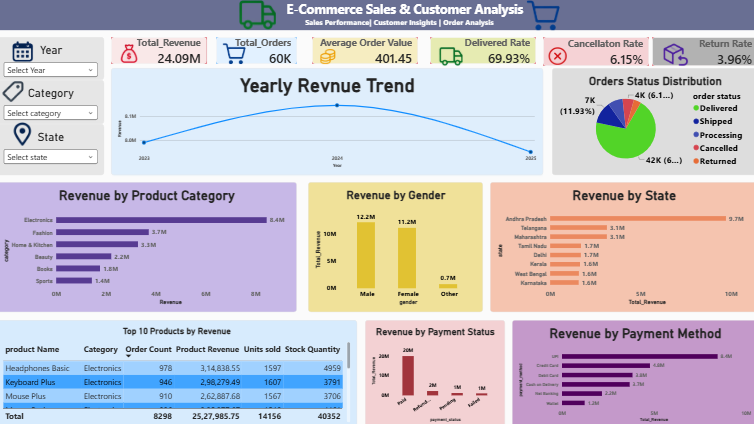

This screenshot's page, from the dashboard's own definition file:
{"tool":"powerbi","page":{"name":"Page 1","canvas":[1920,1080],"ordinal":0},"visuals":[{"type":"cardVisual","fields":{"Data":["ecommerce_analysis orders.Total_Revenue"]},"box":[289.8,93.2,241.9,68],"z":0},{"type":"cardVisual","fields":{"Data":["ecommerce_analysis orders.Total_Orders"]},"box":[554.3,93.2,204.1,68],"z":1000},{"type":"cardVisual","fields":{"Data":["ecommerce_analysis orders.Average Order Value"]},"box":[796.2,93.2,267.1,68],"z":2000},{"type":"lineChart","title":"Yearly Revnue Trend","fields":{"Category":["ecommerce_analysis orders.order_date.Variation.Date Hierarchy.Year","ecommerce_analysis orders.order_date.Variation.Date Hierarchy.Month"],"Y":["ecommerce_analysis orders.Total_Revenue"]},"box":[289.8,171.3,1088.5,269.6],"z":3000},{"type":"pieChart","title":"Orders Status Distribution","fields":{"Category":["ecommerce_analysis orders.order_status"],"Y":["ecommerce_analysis orders.Total_Orders"]},"box":[1400.9,171.3,519.1,269.6],"z":4000},{"type":"clusteredBarChart","title":"Revenue by Product Category","fields":{"Category":["ecommerce_analysis products.category"],"Y":["ecommerce_analysis order_items.Revenue"]},"box":[0,458.6,758.4,327.6],"z":5000},{"type":"listSlicer","fields":{"Values":["ecommerce_analysis orders.order_date.Variation.Date Hierarchy.Year"]},"box":[2.5,93.2,269.6,108.3],"z":6000},{"type":"listSlicer","title":"Category","fields":{"Values":["ecommerce_analysis products.category"]},"box":[2.5,201.6,269.6,110.9],"z":7000},{"type":"clusteredBarChart","title":"Revenue by State","fields":{"Category":["ecommerce_analysis customers.state"],"Y":["ecommerce_analysis orders.Total_Revenue"]},"box":[1244.7,458.6,675.3,327.6],"z":8000},{"type":"listSlicer","title":"State","fields":{"Values":["ecommerce_analysis customers.state"]},"box":[2.5,312.4,269.6,128.5],"z":9000},{"type":"clusteredColumnChart","title":"Revenue by Gender","fields":{"Category":["ecommerce_analysis customers.gender"],"Y":["ecommerce_analysis orders.Total_Revenue"]},"box":[786.1,458.6,440.9,327.6],"z":10000},{"type":"cardVisual","fields":{"Data":["ecommerce_analysis orders.Delivered Rate"]},"box":[1093.5,93.2,267.1,68],"z":11000},{"type":"cardVisual","fields":{"Data":["ecommerce_analysis orders.Cancellaton Rate"]},"box":[1378.3,93.2,267.1,73.1],"z":12000},{"type":"tableEx","title":"Top 10 Products by Revenue","fields":{"Values":["ecommerce_analysis products.product_name","ecommerce_analysis products.category","Count(ecommerce_analysis order_items.order_item_id)","Sum(ecommerce_analysis order_items.line_total)","Sum(ecommerce_analysis order_items.quantity)","ecommerce_analysis products.stock_quantity"]},"box":[0,806.3,909.6,274.6],"z":13000},{"type":"clusteredBarChart","title":"Revenue by Payment Method","fields":{"Category":["ecommerce_analysis payments.payment_method"],"Y":["ecommerce_analysis orders.Total_Revenue"]},"box":[1300.2,806.3,619.8,274.6],"z":13001},{"type":"clusteredColumnChart","title":"Revenue by Payment Status","fields":{"Category":["ecommerce_analysis payments.payment_status"],"Y":["ecommerce_analysis orders.Total_Revenue"]},"box":[929.8,806.3,352.8,274.6],"z":13002},{"type":"cardVisual","fields":{"Data":["ecommerce_analysis orders.Return Rate"]},"box":[1652.9,93.2,267.1,73.1],"z":13003},{"type":"textbox","box":[2.5,0,1917.5,75.6],"z":13004},{"type":"image","box":[554.3,108.3,90.7,52.9],"z":13005},{"type":"image","box":[289.8,110.9,90.7,47.9],"z":13006},{"type":"image","box":[796.2,123.5,80.6,37.8],"z":13007},{"type":"image","box":[1093.5,118.4,103.3,47.9],"z":13008},{"type":"image","box":[1378.3,118.4,73.1,45.4],"z":13009},{"type":"image","box":[1660.5,108.3,105.8,58],"z":13010},{"type":"image","box":[0,103.3,136.1,52.9],"z":13011},{"type":"image","box":[0,204.1,85.7,52.9],"z":13012},{"type":"image","box":[22.7,307.4,88.2,60.5],"z":13013},{"type":"image","box":[1322.8,0,110.9,75.6],"z":13014},{"type":"image","box":[572,0,171.3,75.6],"z":13015}]}

Visuals, with their boxes in screenshot pixels (x1, y1, x2, y2), scaled from the page's 1920x1080 canvas onto the 754x424 screenshot:
cardVisual - ecommerce_analysis orders.Total_Revenue: detection(114, 37, 209, 63)
cardVisual - ecommerce_analysis orders.Total_Orders: detection(218, 37, 298, 63)
cardVisual - ecommerce_analysis orders.Average Order Value: detection(313, 37, 418, 63)
"Yearly Revnue Trend" lineChart: detection(114, 67, 541, 173)
"Orders Status Distribution" pieChart: detection(550, 67, 753, 173)
"Revenue by Product Category" clusteredBarChart: detection(0, 180, 298, 309)
listSlicer - ecommerce_analysis orders.order_date.Variation.Date Hierarchy.Year: detection(1, 37, 107, 79)
"Category" listSlicer: detection(1, 79, 107, 123)
"Revenue by State" clusteredBarChart: detection(489, 180, 753, 309)
"State" listSlicer: detection(1, 123, 107, 173)
"Revenue by Gender" clusteredColumnChart: detection(309, 180, 482, 309)
cardVisual - ecommerce_analysis orders.Delivered Rate: detection(429, 37, 534, 63)
cardVisual - ecommerce_analysis orders.Cancellaton Rate: detection(541, 37, 646, 65)
"Top 10 Products by Revenue" tableEx: detection(0, 317, 357, 423)
"Revenue by Payment Method" clusteredBarChart: detection(511, 317, 753, 423)
"Revenue by Payment Status" clusteredColumnChart: detection(365, 317, 504, 423)
cardVisual - ecommerce_analysis orders.Return Rate: detection(649, 37, 753, 65)
textbox: detection(1, 0, 753, 30)
image: detection(218, 43, 253, 63)
image: detection(114, 44, 149, 62)
image: detection(313, 48, 344, 63)
image: detection(429, 46, 470, 65)
image: detection(541, 46, 570, 64)
image: detection(652, 43, 694, 65)
image: detection(0, 41, 53, 61)
image: detection(0, 80, 34, 101)
image: detection(9, 121, 44, 144)
image: detection(519, 0, 563, 30)
image: detection(225, 0, 292, 30)
